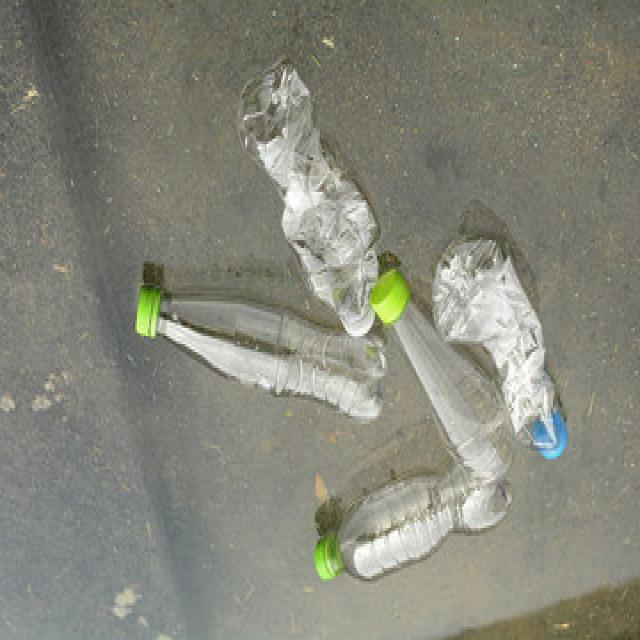Plastic: (230, 57, 401, 342), (128, 282, 394, 424), (430, 228, 572, 476), (369, 263, 532, 475), (307, 468, 522, 588)
